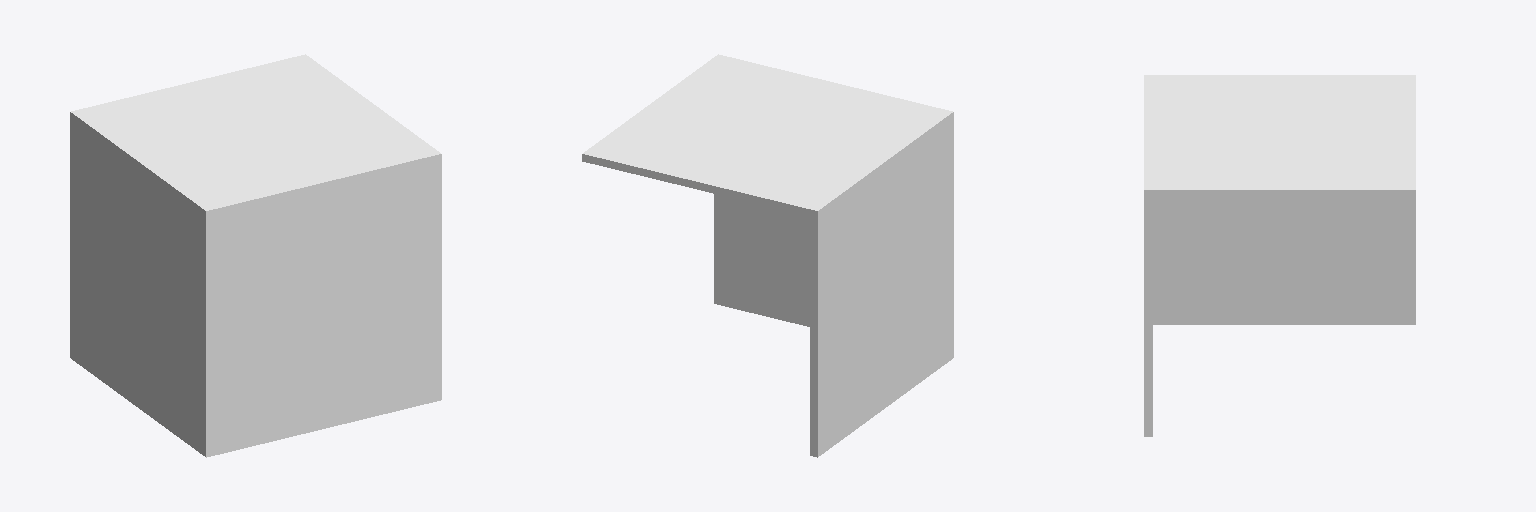
3 views of the same model, side by side, from view 1: azimuth 30°, elevation 25°; view 2: azimuth 150°, elevation 25°; view 3: azimuth 270°, elevation 25° (orthographic).
Parts seen in each view (by area): view 1: test-18; view 2: test-18; view 3: test-18.
Boxes of the visible parts, x1,y1,x2,y2 form: test-18: [70, 54, 441, 457]; test-18: [582, 54, 953, 457]; test-18: [1144, 75, 1415, 436].
Size of the model in its own units: 32 by 32 by 32.